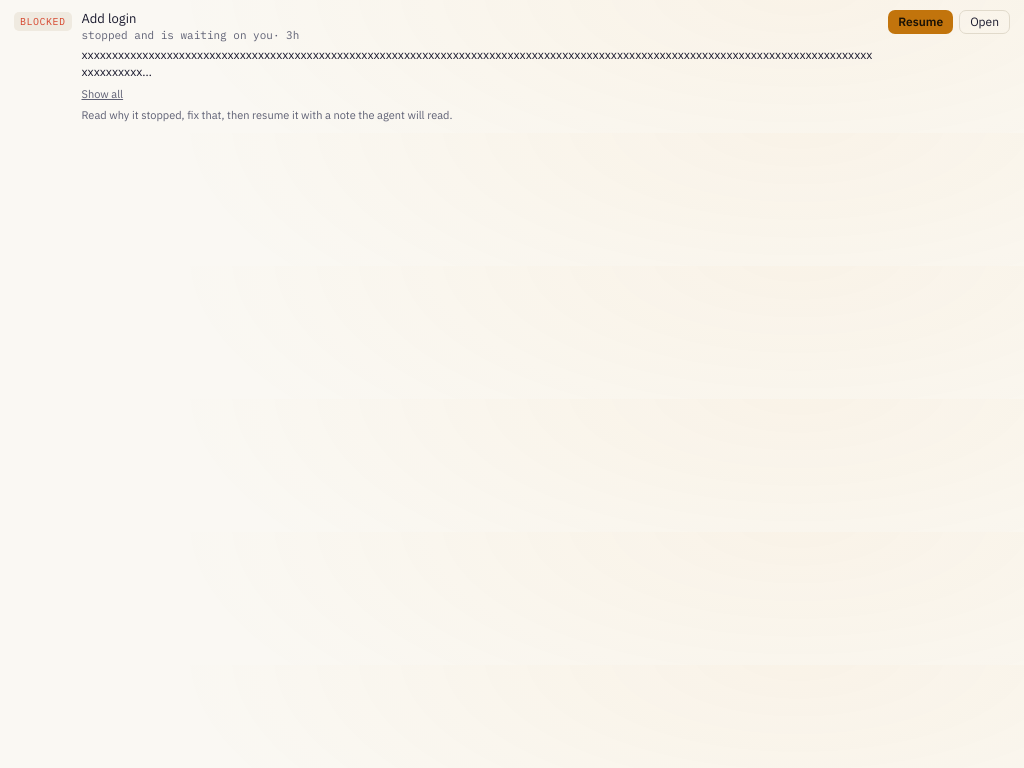
Test: AttentionRow › cuts a long detail short, with a control to read the rest
Click the button "Show all" at (102, 94), box [82,86,123,102]
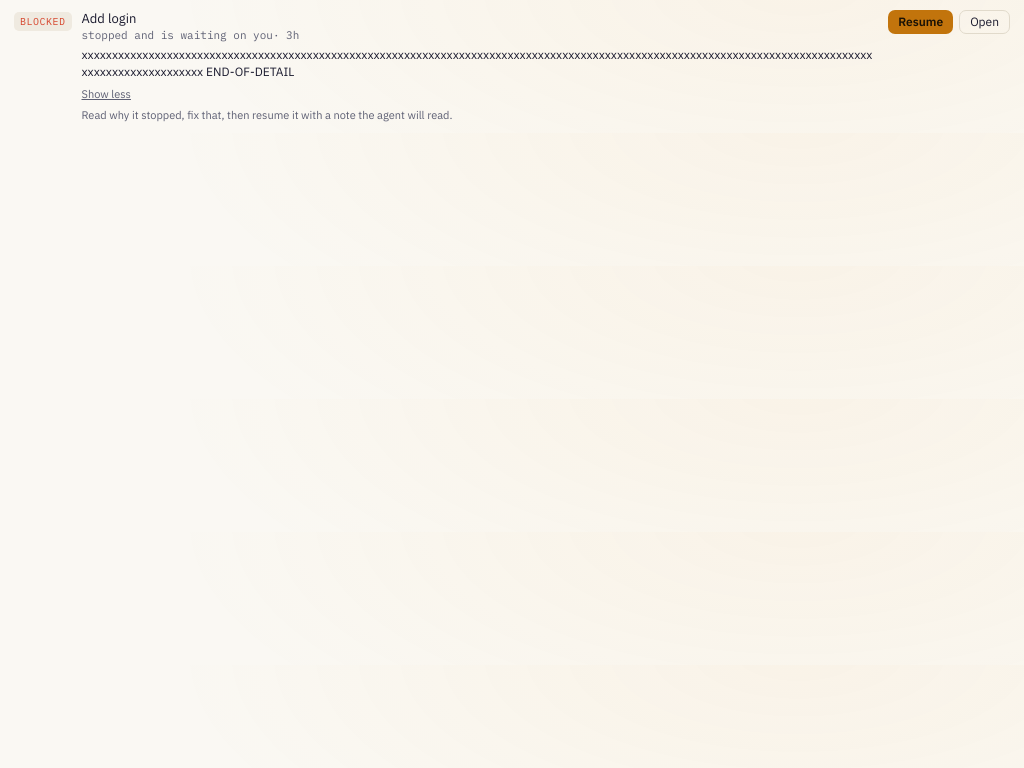
Expected: the text "END-OF-DETAIL" is shown, [82,47,872,78]
